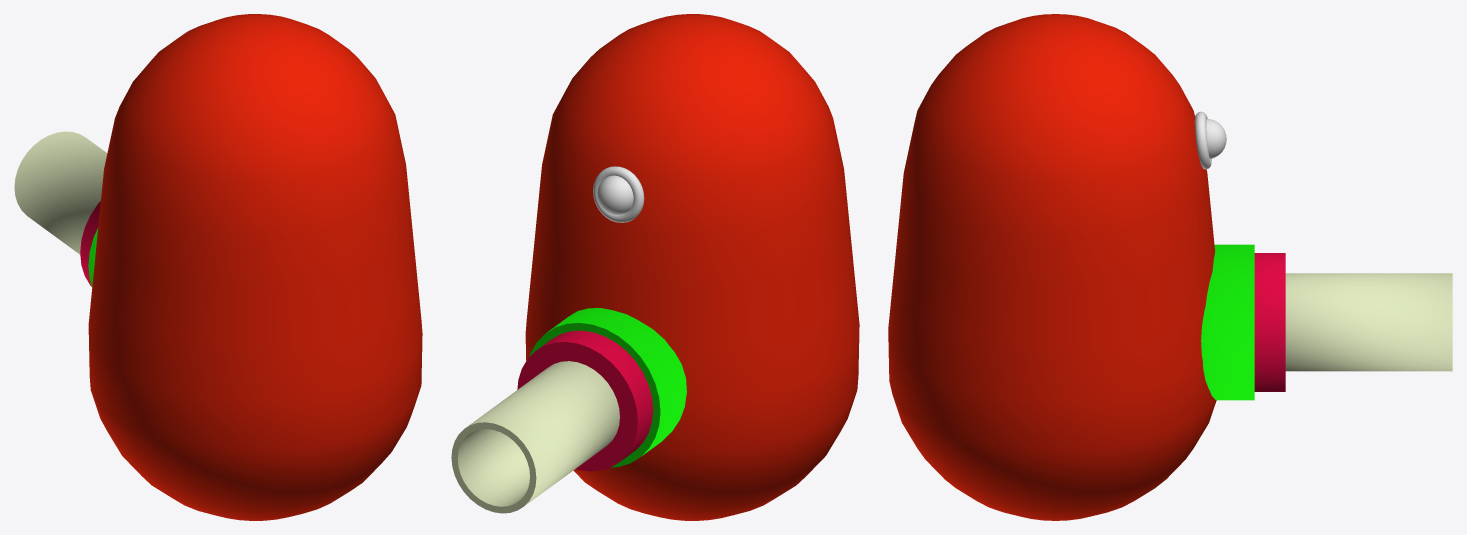
The model's file is turret.fbx.
3 views of the same model, side by side, from view 1: azimuth 30°, elevation 25°; view 2: azimuth 150°, elevation 25°; view 3: azimuth 270°, elevation 25° (orthographic).
Visible parts, largest first — view 1: Sphere; view 2: Sphere, Torus, Sphere.001; view 3: Sphere, Torus, Sphere.001.
Part boxes in pixels (x1,y1,x2,y2): Sphere: (14,14,422,520); Sphere: (451,14,859,520); Torus: (593,166,644,222); Sphere.001: (597,175,633,214); Sphere: (888,14,1452,520); Torus: (1194,111,1211,169); Sphere.001: (1206,118,1226,158).
Size of the model in its own units: 195 by 307 by 330.
